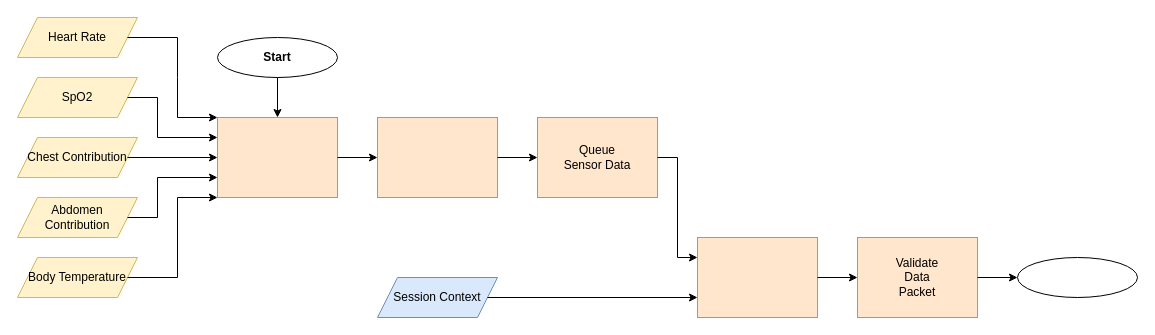
This 1155x335 diagram has some shape labels left out. Each missing label, with the box of its shape:
Create Data Packet: (696, 236, 818, 318)
End: (1016, 256, 1138, 298)
Read Sensor Data: (216, 116, 338, 198)
Time-Stamp Sensor Data: (376, 116, 498, 198)
